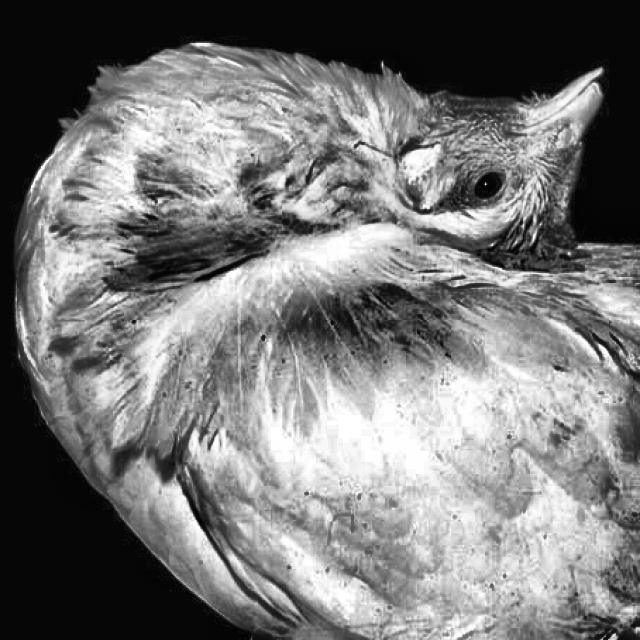Newcastle: (13, 42, 633, 625)
